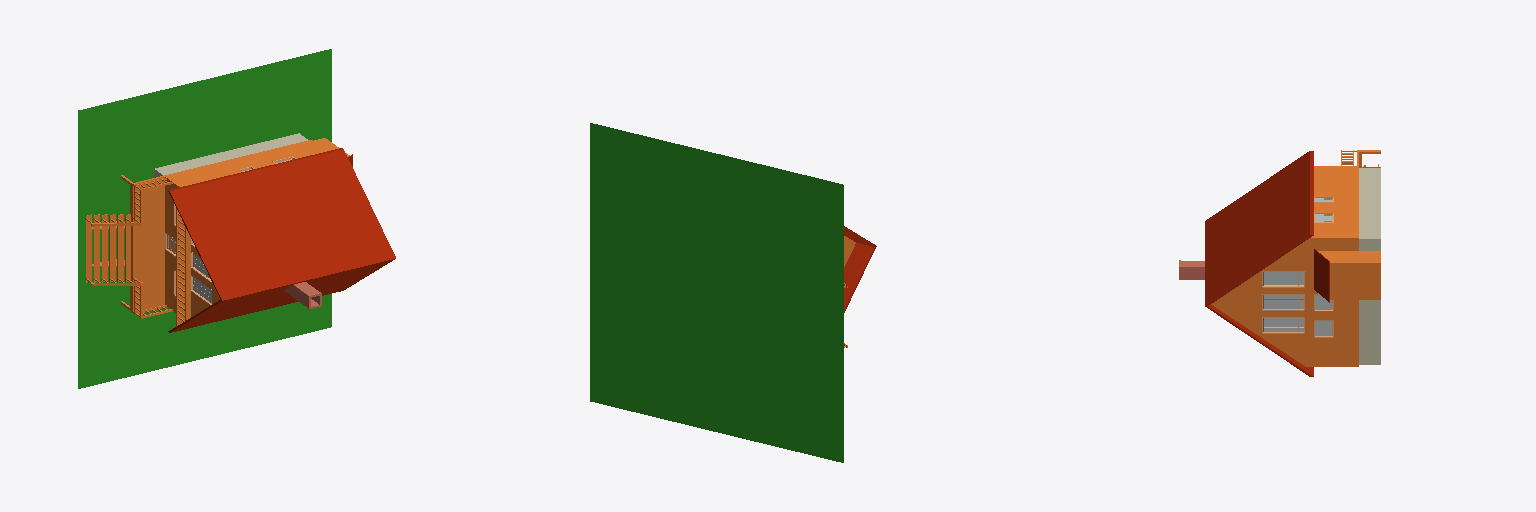
Rendered from Patt06.obj.
The picture shows the model from 3 angles: view 1: azimuth 30°, elevation 25°; view 2: azimuth 150°, elevation 25°; view 3: azimuth 270°, elevation 25°; orthographic projection.
Visible parts, largest first — view 1: grass, roof, wood, floor, walls2, chimney; view 2: grass, roof; view 3: wood, roof, walls2, glass, frame.
Boxes of the visible parts, x1=… form: grass: x1=78, y1=49, x2=331, y2=388; roof: x1=168, y1=148, x2=395, y2=332; wood: x1=132, y1=138, x2=349, y2=326; floor: x1=85, y1=175, x2=187, y2=321; walls2: x1=154, y1=133, x2=307, y2=177; chimney: x1=284, y1=282, x2=321, y2=308; grass: x1=590, y1=123, x2=843, y2=462; roof: x1=844, y1=226, x2=876, y2=312; wood: x1=1211, y1=150, x2=1380, y2=366; roof: x1=1205, y1=151, x2=1329, y2=376; walls2: x1=1359, y1=168, x2=1380, y2=364; glass: x1=1264, y1=198, x2=1331, y2=335; frame: x1=1262, y1=197, x2=1333, y2=337.
Size of the model in its own units: 1.5 by 1.57 by 1.04.